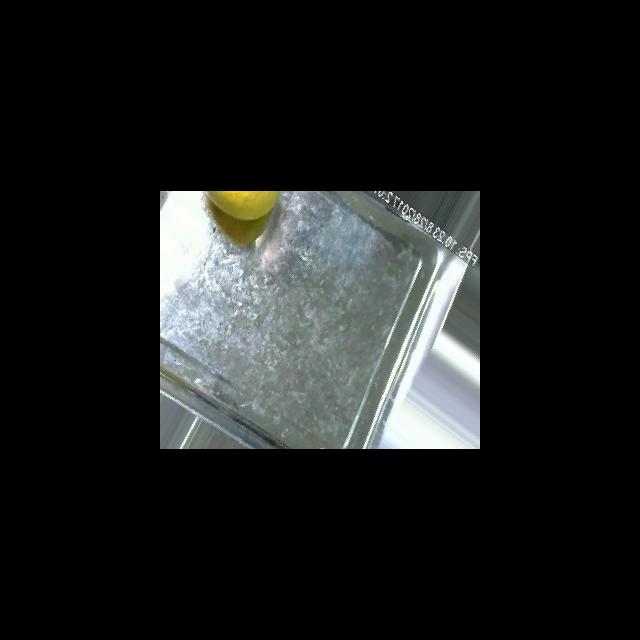Mango: (202, 191, 281, 221)
